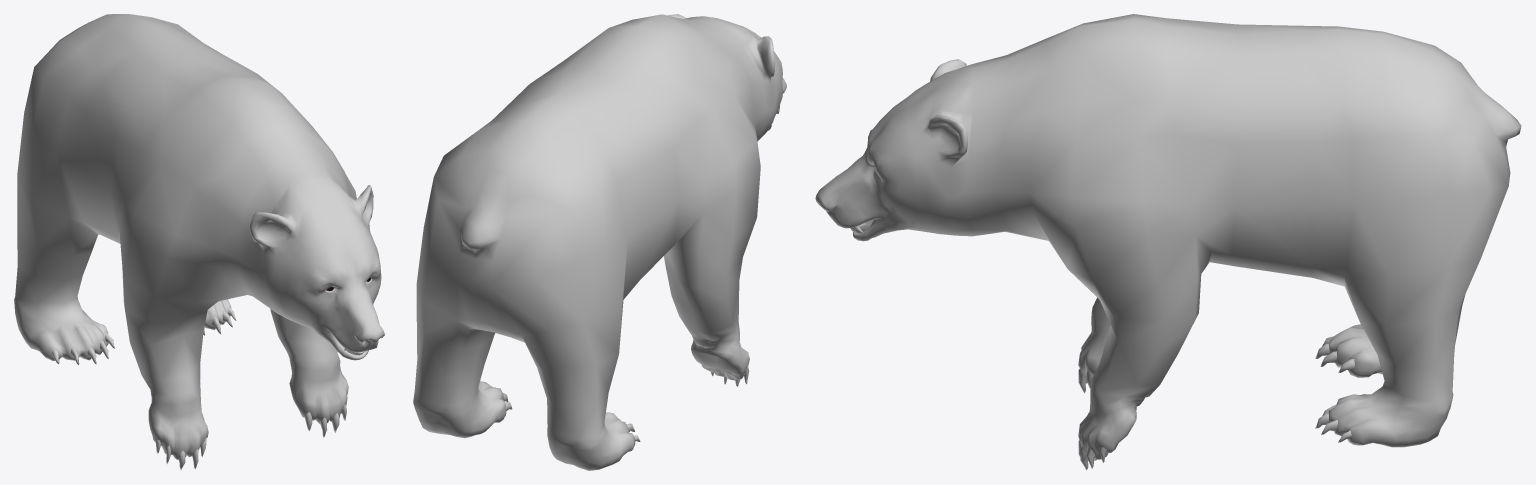
The model's file is PolarBear.fbx.
3 views of the same model, side by side, from view 1: azimuth 30°, elevation 25°; view 2: azimuth 150°, elevation 25°; view 3: azimuth 270°, elevation 25° (orthographic). The views are drawn at different scales.
Parts seen in each view (by area): view 1: Bear.001; view 2: Bear.001; view 3: Bear.001.
Part boxes in pixels (x1,y1,x2,y2): Bear.001: (14,14,384,470); Bear.001: (413,14,786,470); Bear.001: (815,14,1521,470).
Bounding box in the file's own units: 171 × 282 × 441.
